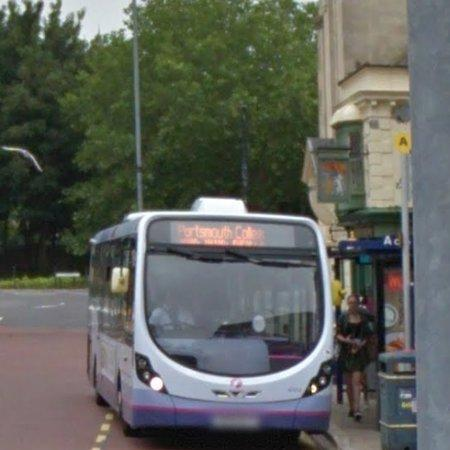buses: (87, 199, 335, 437)
